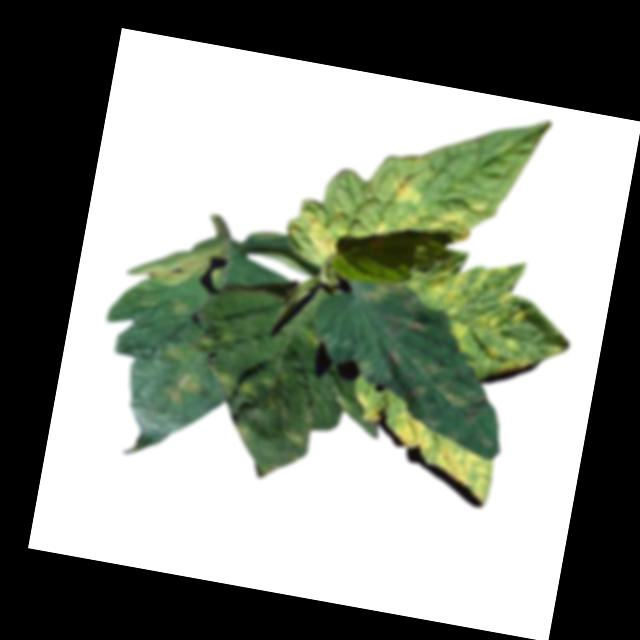Leaf_Mold: (414, 245, 582, 388), (339, 394, 501, 507), (373, 344, 509, 448), (127, 227, 227, 297), (355, 276, 434, 341), (204, 361, 280, 414), (287, 207, 344, 262), (379, 150, 432, 209), (159, 367, 205, 413), (424, 206, 474, 245), (280, 422, 314, 456), (373, 214, 390, 236)
